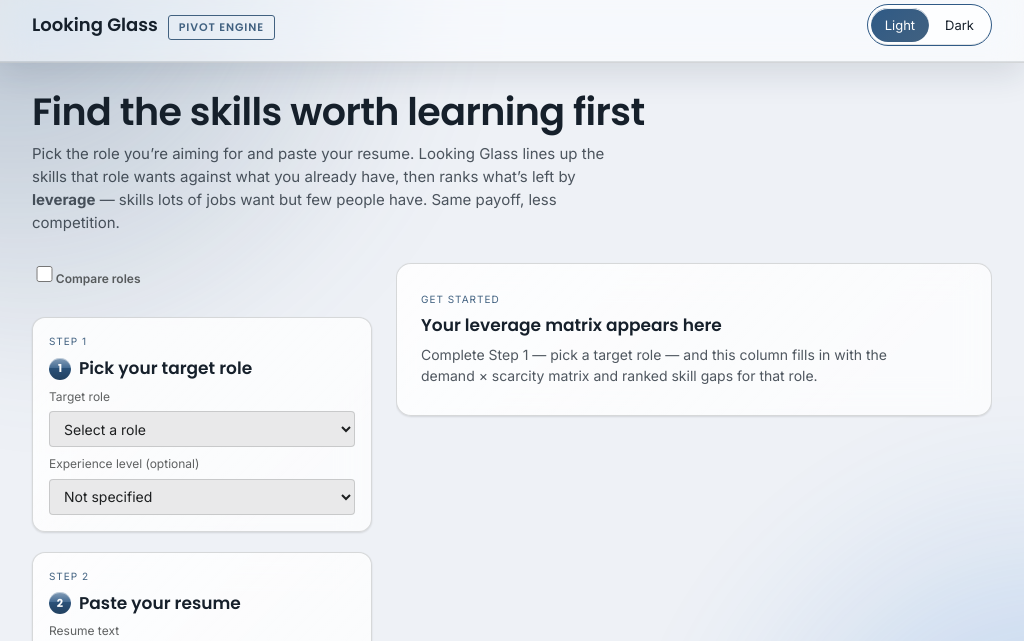
Test: <App /> resume input + have/gap › has no axe violations in the populated have/gap state
Select "Backend" in the dropdown labelled "Target role" at (202, 429), box [49,411,355,447]
(page scrolled)
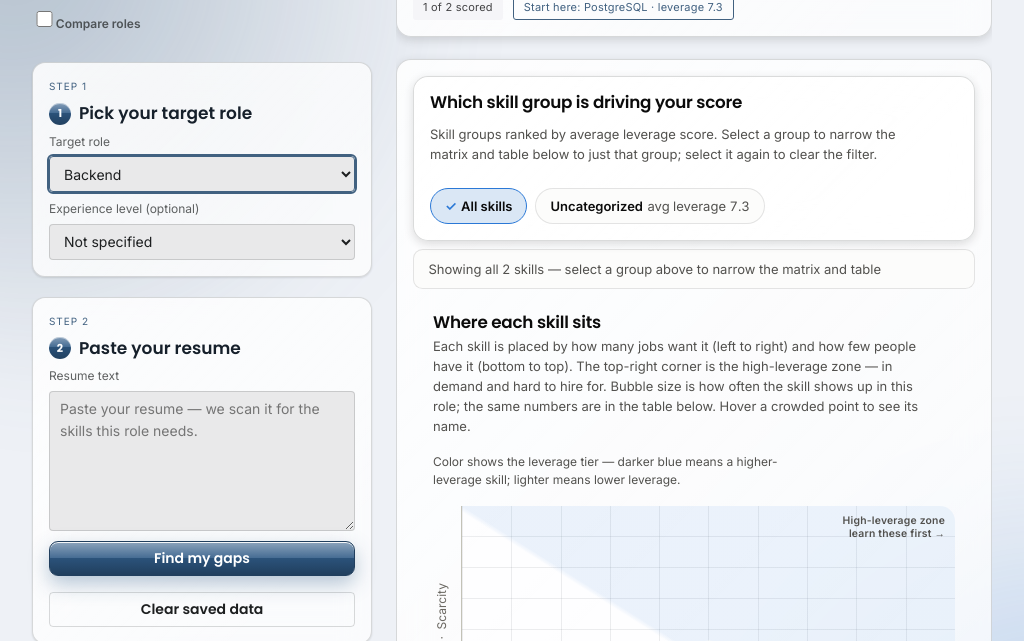
Type "PostgreSQL" into the text box labelled "Resume text" at (202, 461), box [49,391,355,531]
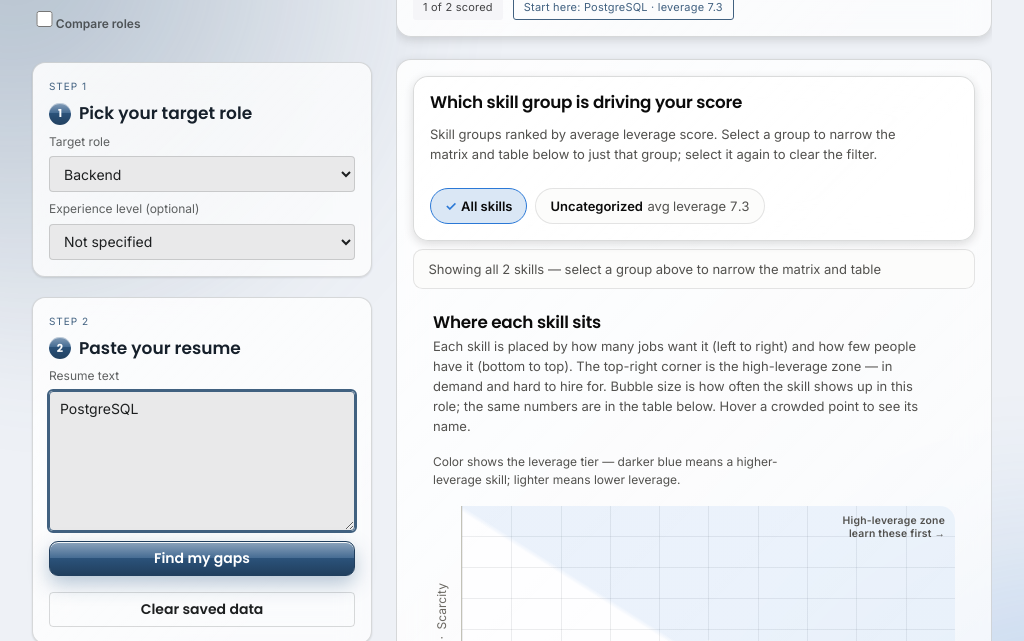
Click the button "Find my gaps" at (202, 559), box [49,541,355,576]
(page scrolled)
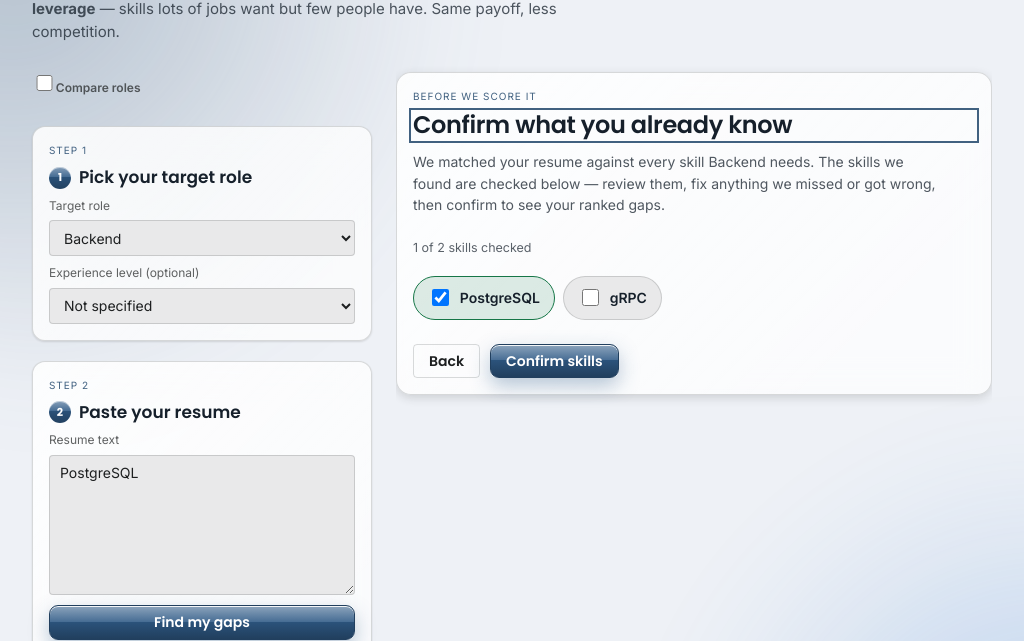
Click the button "Confirm skills" at (554, 361), box [490,344,618,378]
(page scrolled)
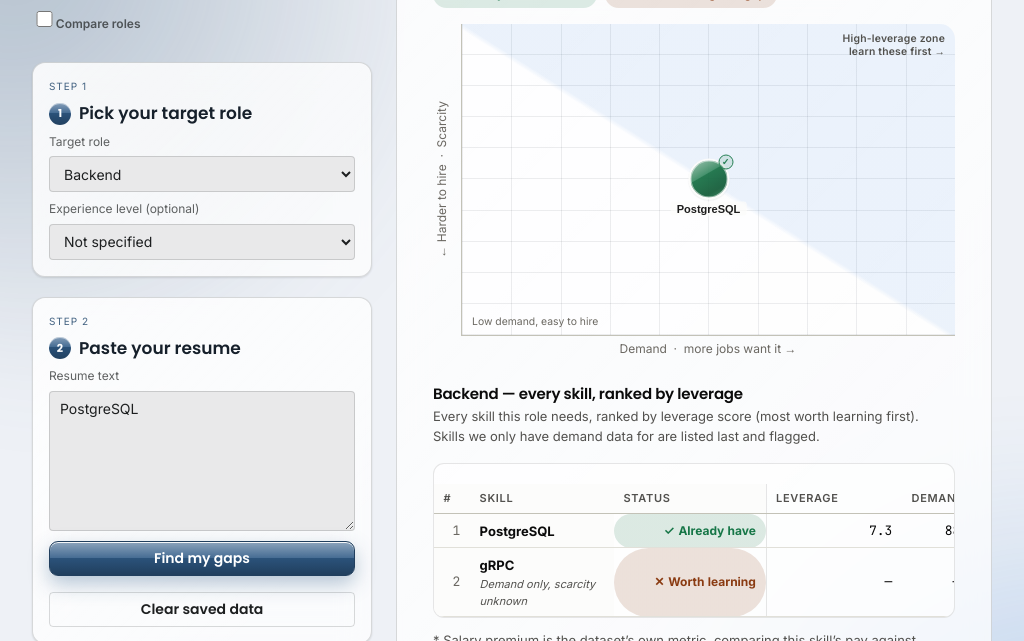
Check: the text "Already have" is shown, box [678,523,756,538]
